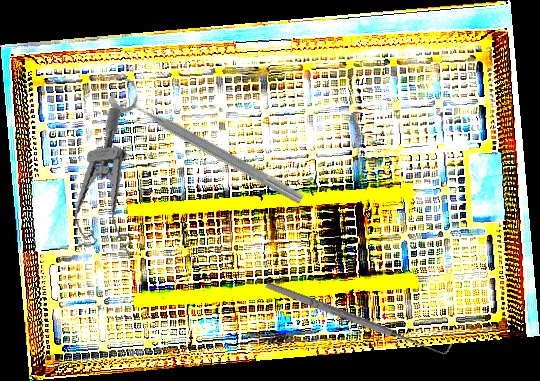Fixation Ring: (106, 73, 313, 210)
Hook Surgical: (264, 273, 453, 361)
Speculum: (57, 107, 143, 261)
